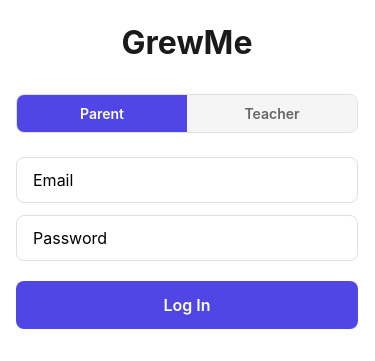
LoginScreen › shows unsupported message for SchoolManager type
Type "admin@test.com" into the field with test id "email-input".
click(187, 180); type("admin@test.com")  # box [16, 157, 358, 203]
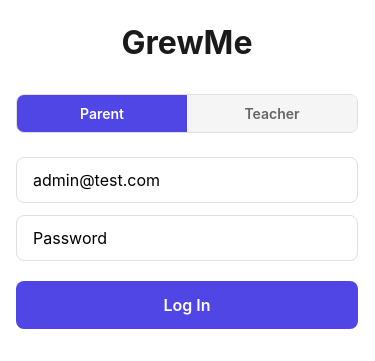
Type "pass123" into the password field with test id "password-input".
click(187, 238); type("pass123")  # box [16, 215, 358, 261]
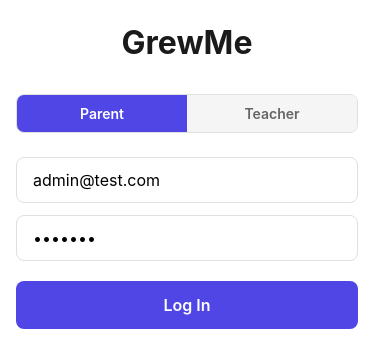
Click the element with test id "login-button".
click(187, 305)  # box [16, 281, 358, 329]
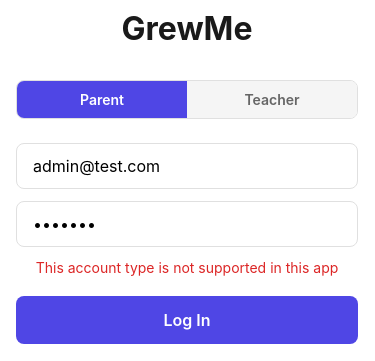
Check: the text "This account type is not supported in this app" is shown, box [16, 258, 358, 276]
Check: the text with test id "error-message" reads "This account type is not supported in this app", box [36, 258, 338, 276]
